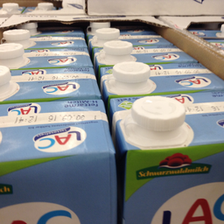milk: (111, 85, 224, 222), (1, 97, 118, 224), (103, 63, 224, 92), (1, 66, 104, 99), (94, 39, 204, 67), (1, 41, 94, 70)
